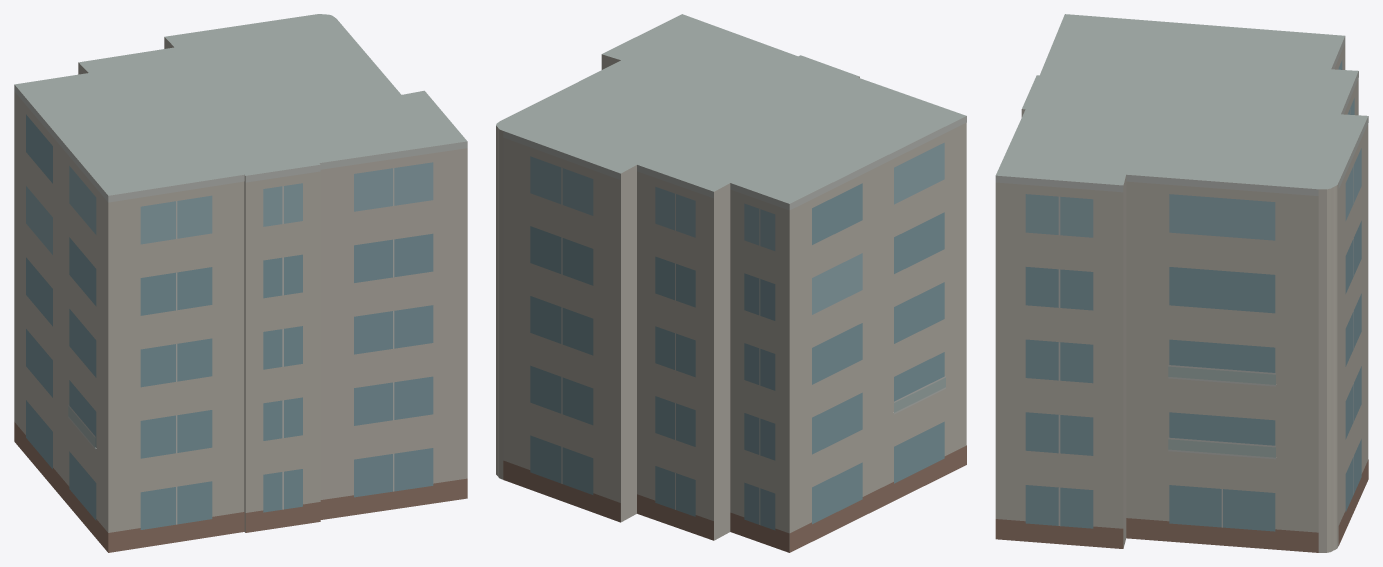
Rendered from survey-upis-32747428.glb.
3 renders of one model, left to right at view 1: azimuth 30°, elevation 25°; view 2: azimuth 150°, elevation 25°; view 3: azimuth 270°, elevation 25°, orthographic. The views are drawn at different scales.
Parts seen in each view (by area): view 1: survey-upis-32747428.tmp; view 2: survey-upis-32747428.tmp; view 3: survey-upis-32747428.tmp.
Part boxes in pixels (x1,y1,x2,y2): survey-upis-32747428.tmp: [14, 14, 467, 552]; survey-upis-32747428.tmp: [496, 14, 966, 552]; survey-upis-32747428.tmp: [995, 14, 1368, 552].
Size of the model in its own units: 13.35 by 12.9 by 12.
